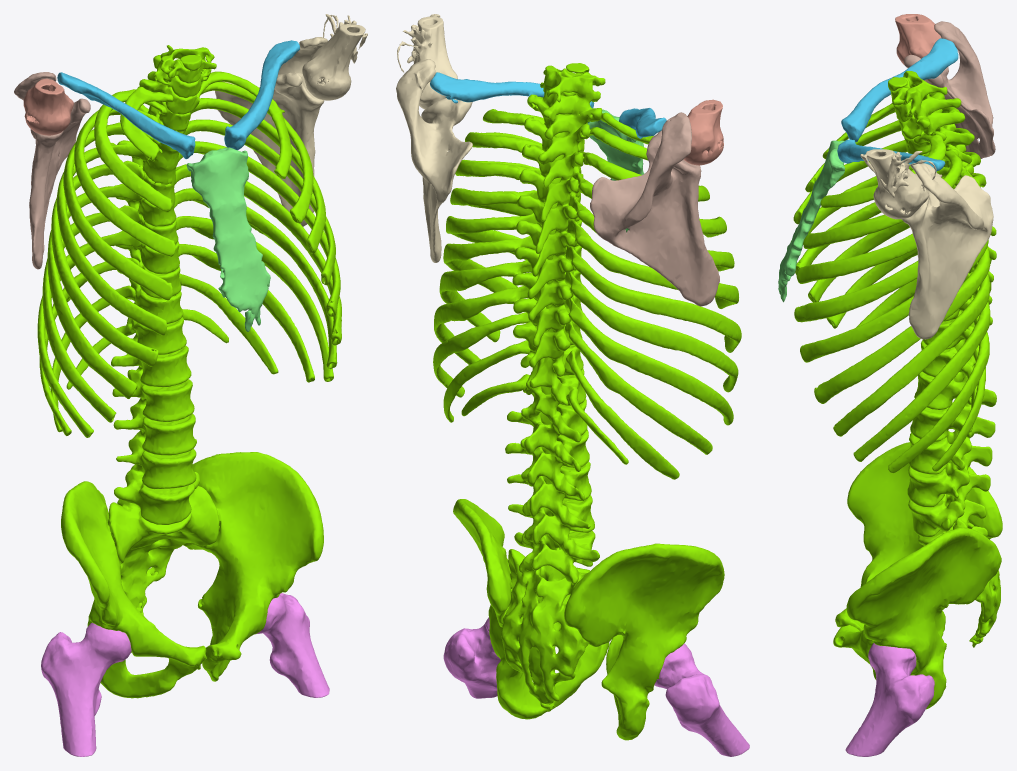
The picture shows the model from 3 angles, left to right: view 1: azimuth 30°, elevation 25°; view 2: azimuth 150°, elevation 25°; view 3: azimuth 270°, elevation 25°; orthographic projection. The views are drawn at different scales.
Parts seen in each view (by area): view 1: Camera Node_7; view 2: Camera Node_7; view 3: Camera Node_7.
Boxes of the visible parts, x1,y1,x2,y2 form: Camera Node_7: (14,14,367,756); Camera Node_7: (396,14,749,756); Camera Node_7: (778,14,1002,756).
Bounding box in the file's own units: 0.4451 × 0.8715 × 0.2855.
